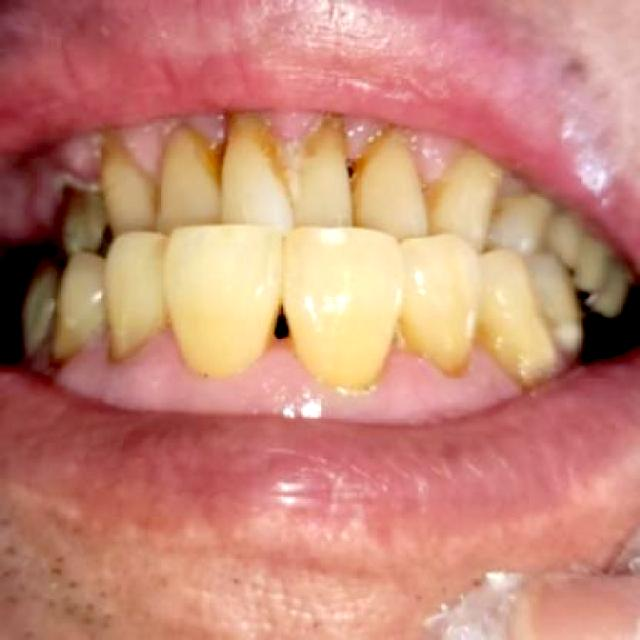Plaque: (53, 326, 515, 424)
